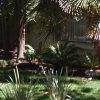Palm tree: (41, 1, 91, 37)
